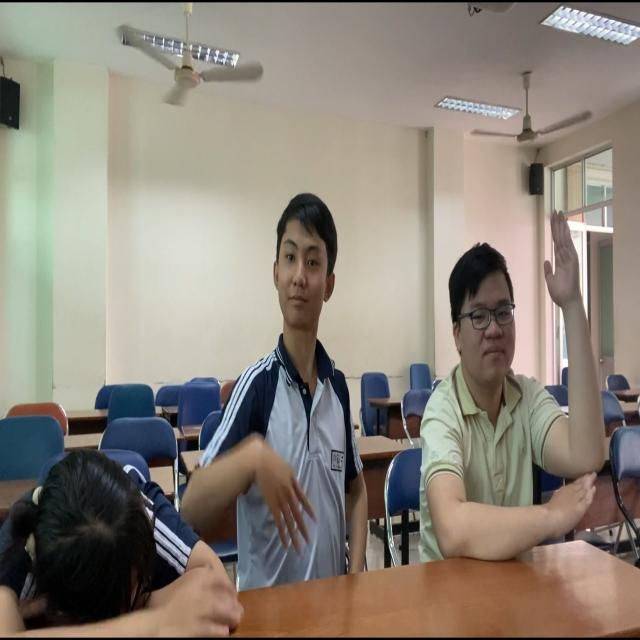raise_hand: (417, 197, 612, 578)
sleep: (1, 420, 237, 640)
